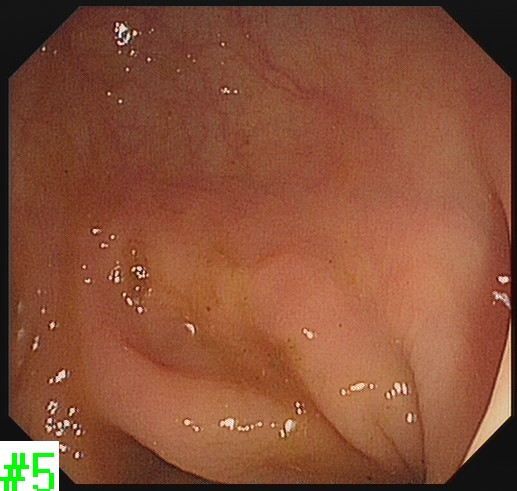adenoma: (232, 247, 361, 345)
